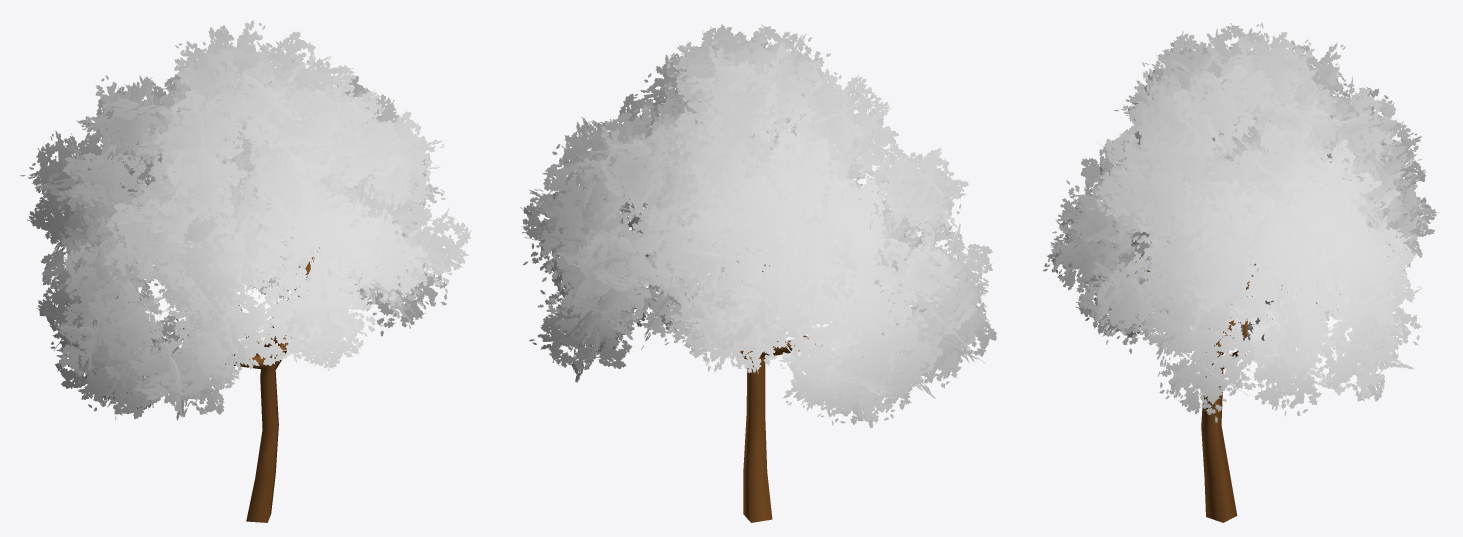
The model's file is SM_OakReduced.fbx.
3 renders of one model, left to right at view 1: azimuth 30°, elevation 25°; view 2: azimuth 150°, elevation 25°; view 3: azimuth 270°, elevation 25°, orthographic. The views are drawn at different scales.
Visible parts, largest first — view 1: Oak_Leaves_White.126, OakTree.002; view 2: Oak_Leaves_White.126, OakTree.002; view 3: Oak_Leaves_White.126, OakTree.002.
Part boxes in pixels (x1,y1,x2,y2): Oak_Leaves_White.126: [20, 19, 471, 420]; OakTree.002: [169, 247, 319, 522]; Oak_Leaves_White.126: [520, 24, 996, 428]; OakTree.002: [645, 255, 822, 522]; Oak_Leaves_White.126: [1043, 22, 1438, 422]; OakTree.002: [1136, 261, 1255, 522].
Size of the model in its own units: 2.72 by 3.14 by 3.55.
